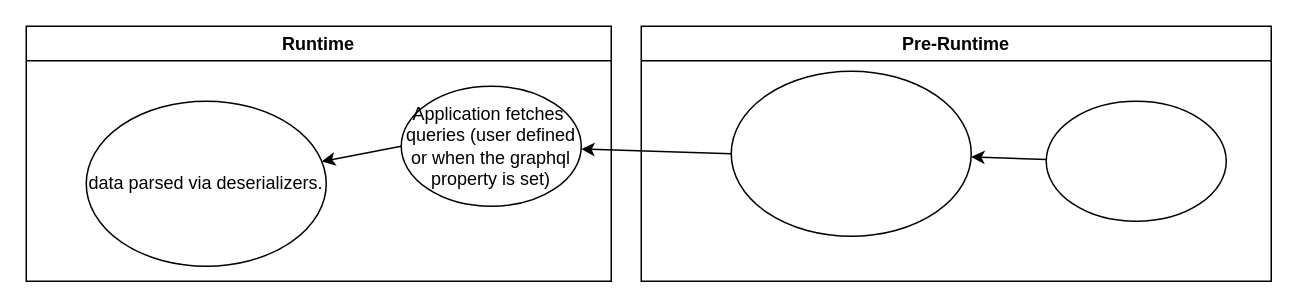
Image size: 1298x308. Some labels were removed from this diagram. Here are the shapes that lost their labels. From the top down, the centre of each, then its label:
At (x=850, y=153): "Codegen pares queries from QML files by regex to Handlers based on operationName".
At (x=1135, y=160): "Query declared in QML component".
